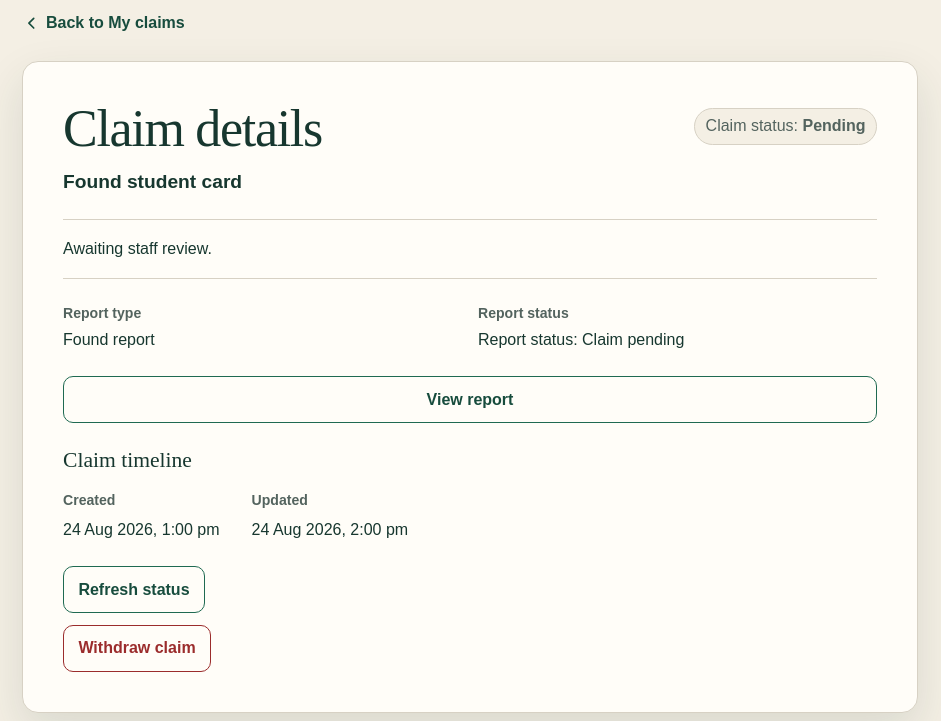
Test: ClaimDetailClient loading and refresh › keeps safe detail after a refresh failure and can retry
This screenshot has width=941, height=721.
Click the button "Refresh status". click: x=134, y=590
box: [63,566,205,613]
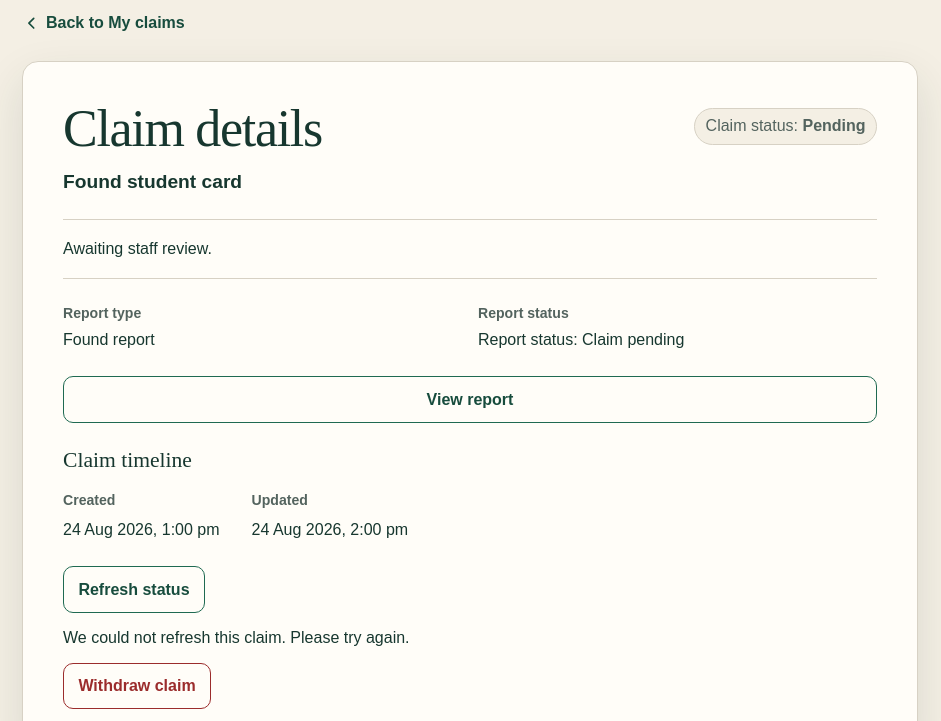
Expected: the text "Found student card" is shown, [63,171,242,192]
Expected: the message "We could not refresh this claim. Please try again." is shown, [63,629,410,646]
Click the button "Refresh status". click: x=134, y=590
box: [63,566,205,613]
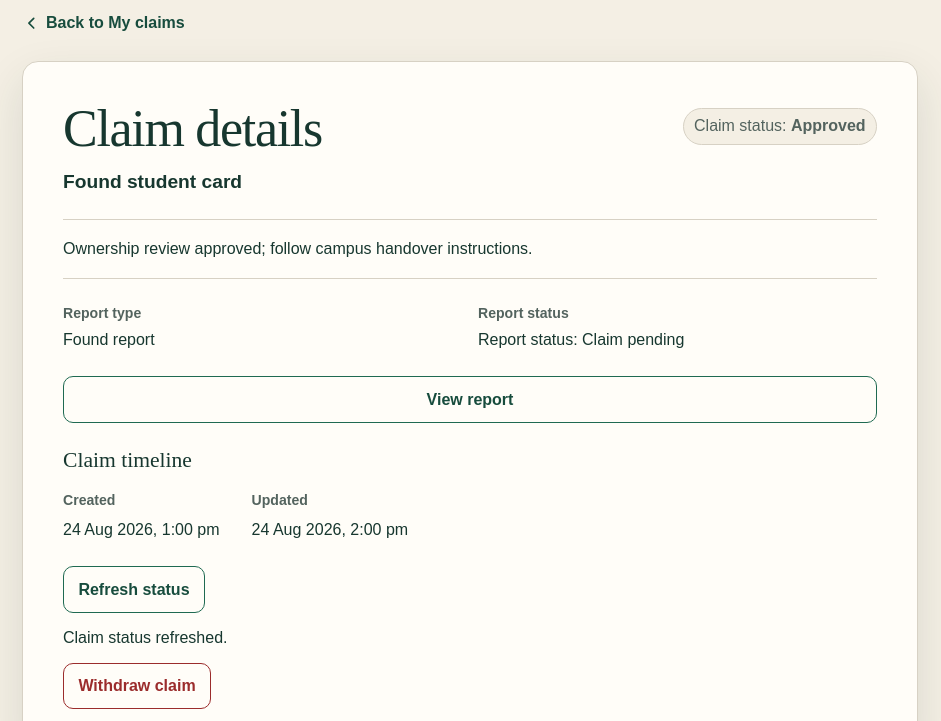
Expected: the text "Ownership review approved" is shown, [63,240,533,258]
